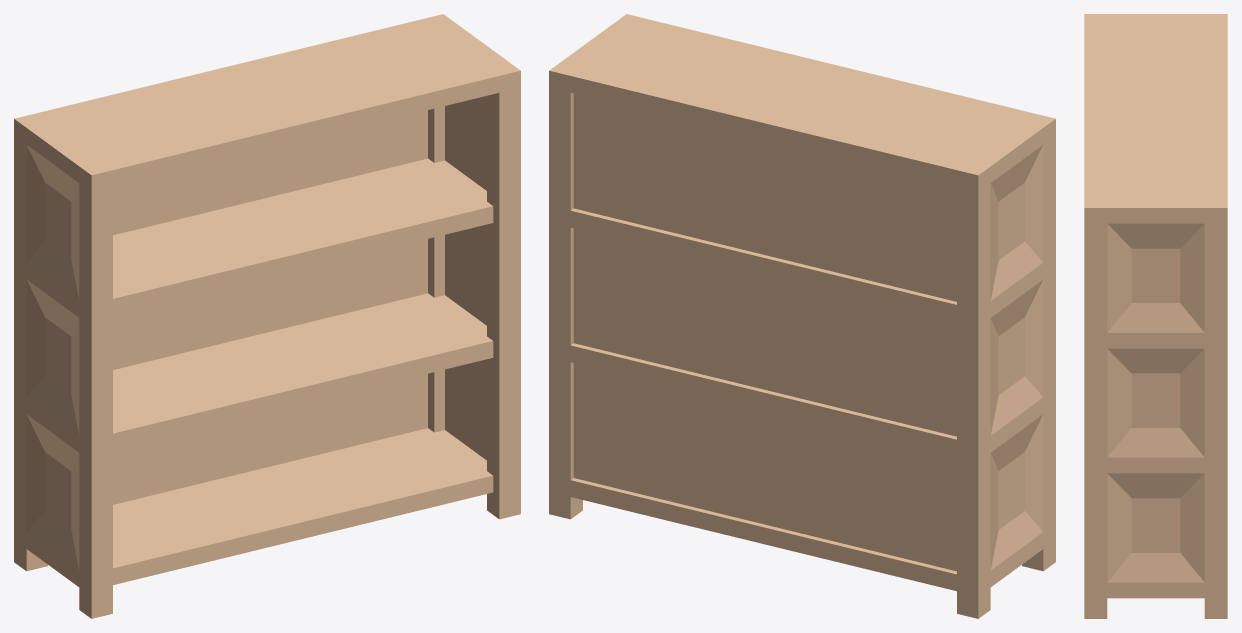
Rendered from bookcaseClosedWide.glb.
The picture shows the model from 3 angles, left to right: view 1: azimuth 30°, elevation 25°; view 2: azimuth 150°, elevation 25°; view 3: azimuth 270°, elevation 25°; orthographic projection. The views are drawn at different scales.
Parts seen in each view (by area): view 1: bookcaseClosedWide(Clone); view 2: bookcaseClosedWide(Clone); view 3: bookcaseClosedWide(Clone).
Boxes of the visible parts, <box> form: bookcaseClosedWide(Clone): <box>14,14,520,618</box>; bookcaseClosedWide(Clone): <box>549,14,1055,618</box>; bookcaseClosedWide(Clone): <box>1084,14,1227,618</box>.
Size of the model in its own units: 1.62 by 1.6 by 0.5075.
1 material, 1 textured.
